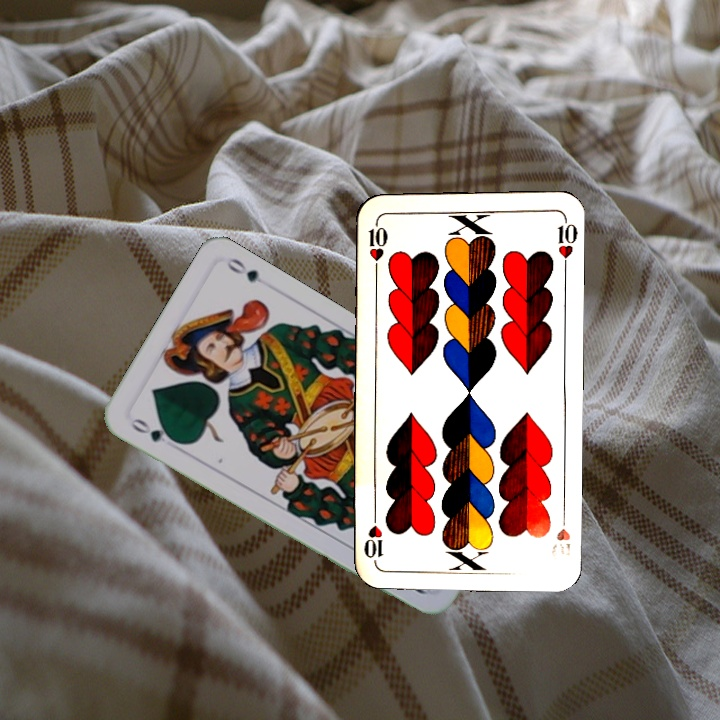GO: (126, 414, 181, 446)
H10: (364, 215, 390, 274), (547, 506, 573, 559)
